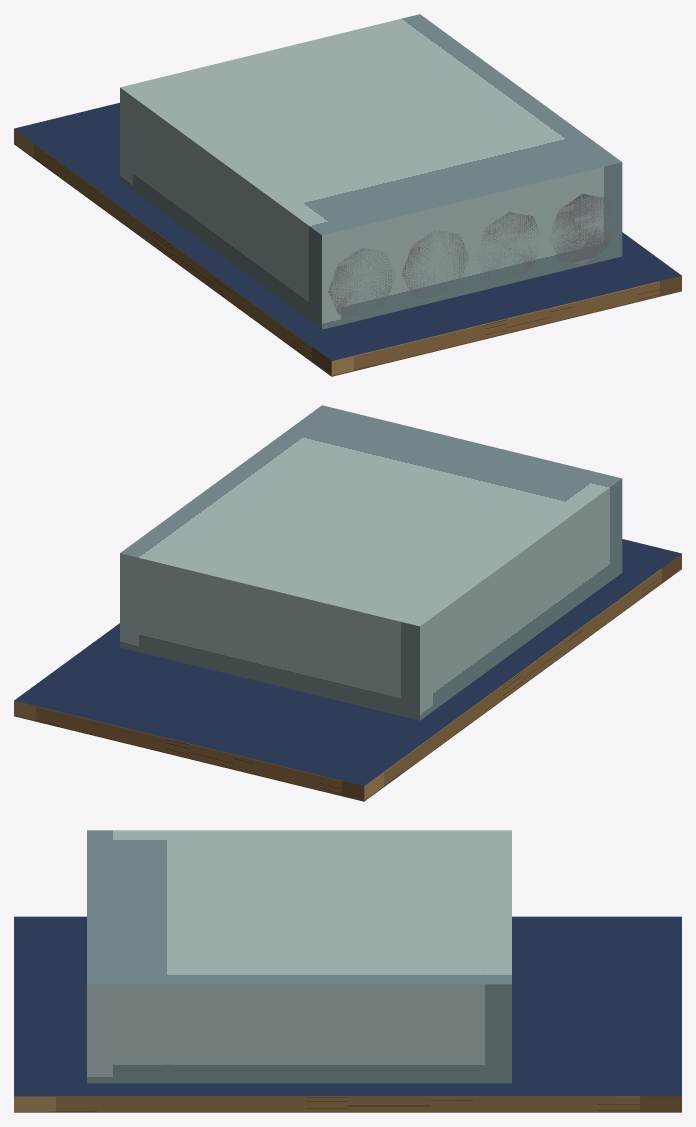
Rendered from INV_SpareBatteries.glb.
3 renders of one model, top to bottom at view 1: azimuth 30°, elevation 25°; view 2: azimuth 150°, elevation 25°; view 3: azimuth 270°, elevation 25°, orthographic. The views are drawn at different scales.
Visible parts, largest first — view 1: INV_SpareBatteries_Mesh; view 2: INV_SpareBatteries_Mesh; view 3: INV_SpareBatteries_Mesh.
Part boxes in pixels (bbox=[...]): INV_SpareBatteries_Mesh: bbox=[14, 14, 681, 376]; INV_SpareBatteries_Mesh: bbox=[14, 405, 681, 801]; INV_SpareBatteries_Mesh: bbox=[14, 830, 681, 1112].
Size of what is drawn, in the model's own units: 0.07 by 0.021 by 0.11.
1 material, 1 textured.
